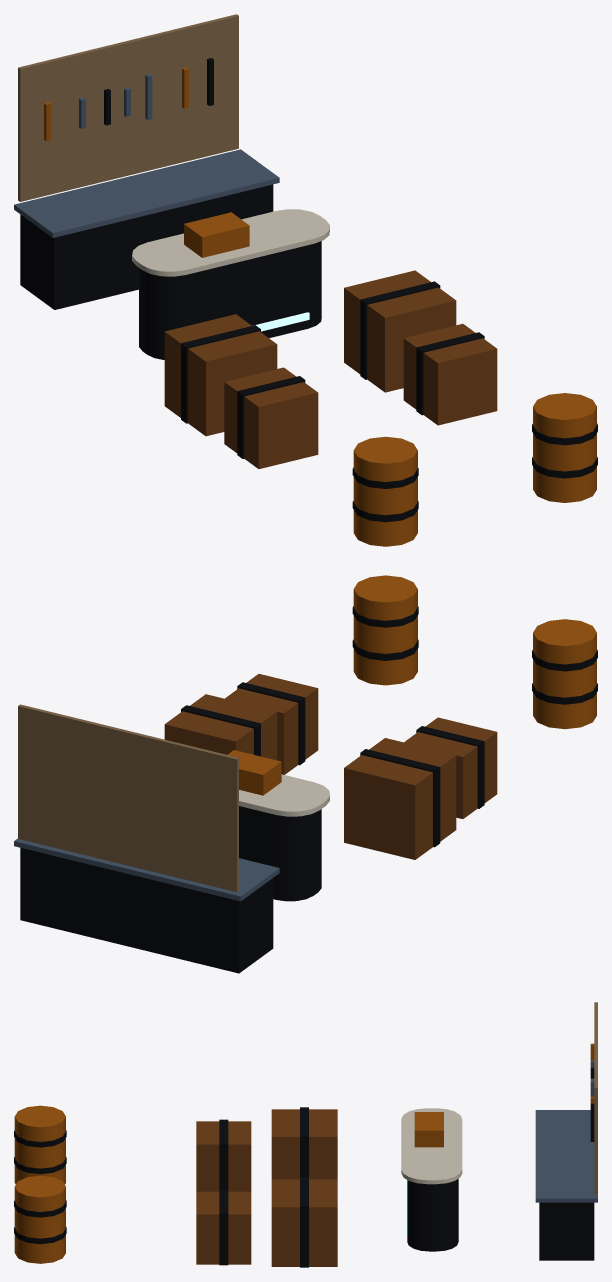
The model's file is fit_workshop_1.glb.
3 renders of one model, top to bottom at view 1: azimuth 30°, elevation 25°; view 2: azimuth 150°, elevation 25°; view 3: azimuth 270°, elevation 25°, orthographic. The views are drawn at different scales.
Parts seen in each view (by area): view 1: fit_workshop_1; view 2: fit_workshop_1; view 3: fit_workshop_1.
Boxes of the visible parts, <box> form: fit_workshop_1: <box>14,14,597,546</box>; fit_workshop_1: <box>14,575,597,973</box>; fit_workshop_1: <box>14,1002,597,1267</box>.
Size of the model in its own units: 3.2 by 2.6 by 7.96.
